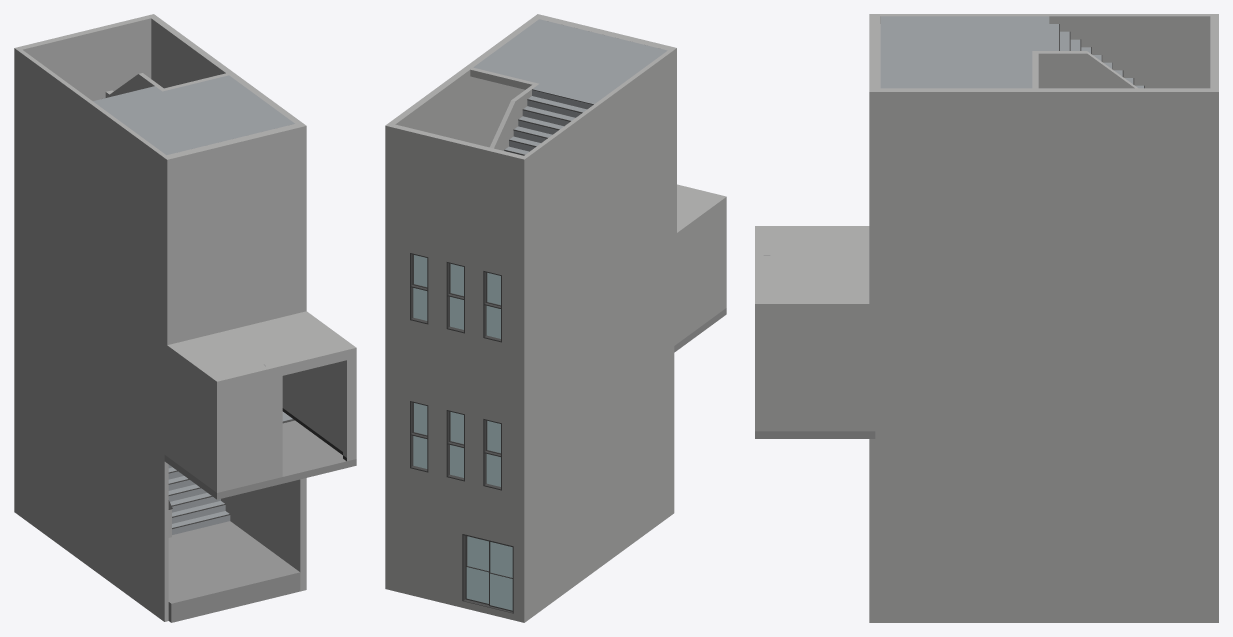
3 renders of one model, left to right at view 1: azimuth 30°, elevation 25°; view 2: azimuth 150°, elevation 25°; view 3: azimuth 270°, elevation 25°, orthographic. The views are drawn at different scales.
Parts seen in each view (by area): view 1: オブジェクト_4, オブジェクト_98, オブジェクト_30, オブジェクト_102, オブジェクト_101, オブジェクト_100, オブジェクト_15; view 2: オブジェクト_4, オブジェクト_30, オブジェクト_101, オブジェクト_15, オブジェクト_25, オブジェクト_14, オブジェクト_12, オブジェクト_13, オブジェクト_98, オブジェクト_11, オブジェクト_22, オブジェクト_26 (+4 smaller); view 3: オブジェクト_4, オブジェクト_30, オブジェクト_101, オブジェクト_15, オブジェクト_100, オブジェクト_98.
Part boxes in pixels (x1=…): オブジェクト_4: x1=14, y1=14, x2=356, y2=621; オブジェクト_98: x1=167, y1=124, x2=300, y2=343; オブジェクト_30: x1=93, y1=75, x2=294, y2=534; オブジェクト_102: x1=168, y1=521, x2=300, y2=622; オブジェクト_101: x1=165, y1=313, x2=350, y2=391; オブジェクト_100: x1=164, y1=420, x2=356, y2=499; オブジェクト_15: x1=105, y1=73, x2=228, y2=537; オブジェクト_4: x1=385, y1=14, x2=726, y2=622; オブジェクト_30: x1=473, y1=19, x2=667, y2=155; オブジェクト_101: x1=675, y1=184, x2=726, y2=244; オブジェクト_15: x1=470, y1=67, x2=538, y2=150; オブジェクト_25: x1=462, y1=534, x2=513, y2=613; オブジェクト_14: x1=490, y1=573, x2=512, y2=610; オブジェクト_12: x1=466, y1=567, x2=488, y2=603; オブジェクト_13: x1=490, y1=542, x2=512, y2=577; オブジェクト_98: x1=539, y1=15, x2=671, y2=50; オブジェクト_11: x1=467, y1=536, x2=488, y2=570; オブジェクト_22: x1=410, y1=253, x2=428, y2=324; オブジェクト_26: x1=410, y1=401, x2=428, y2=472; オブジェクト_4: x1=755, y1=14, x2=1218, y2=622; オブジェクト_30: x1=880, y1=16, x2=1143, y2=88; オブジェクト_101: x1=755, y1=226, x2=869, y2=300; オブジェクト_15: x1=1032, y1=51, x2=1137, y2=88; オブジェクト_100: x1=755, y1=431, x2=875, y2=438; オブジェクト_98: x1=869, y1=16, x2=880, y2=88.
Bounding box in the file's own units: 4.33 × 13.77 × 10.9.
